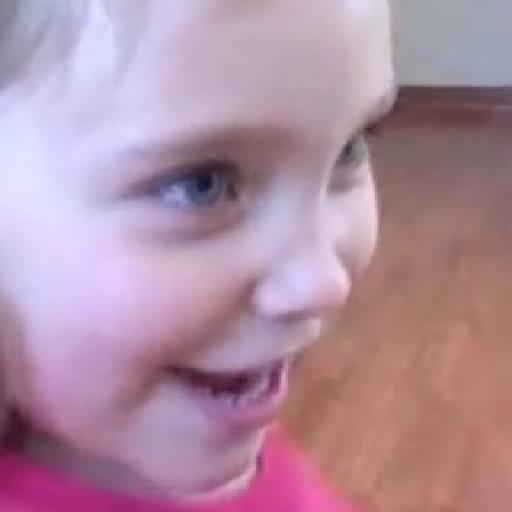Autism: (0, 0, 411, 512)
